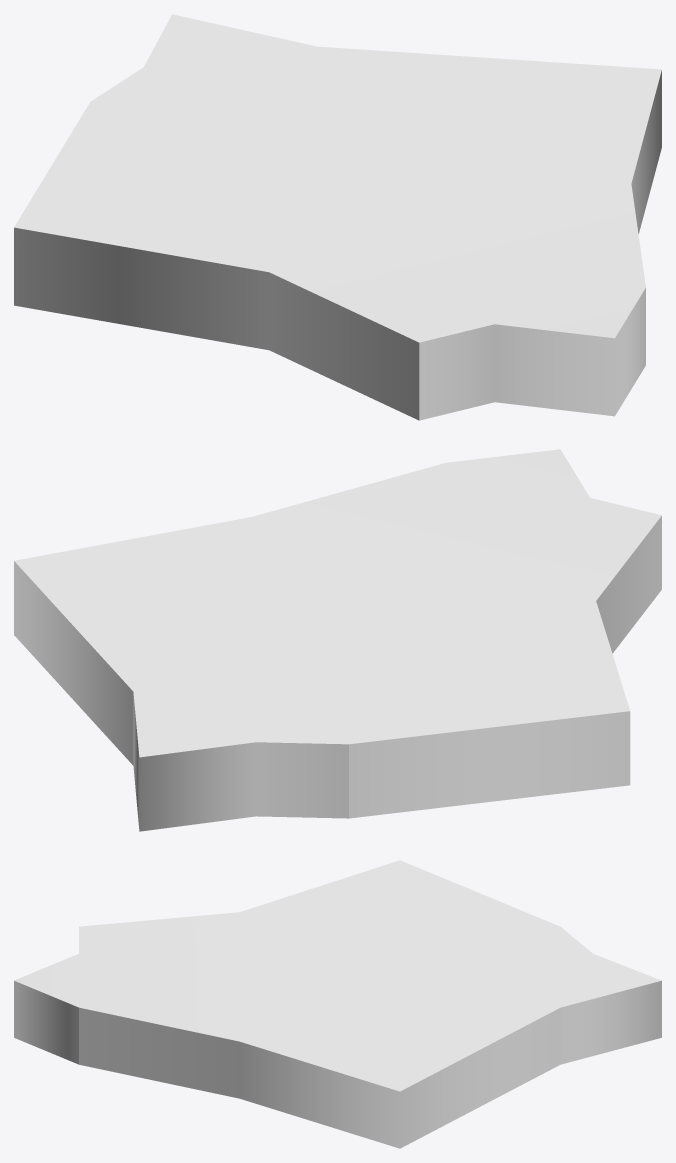
File: Rock 38.FBX
3 views of the same model, one above another, from view 1: azimuth 30°, elevation 25°; view 2: azimuth 150°, elevation 25°; view 3: azimuth 270°, elevation 25° (orthographic). The views are drawn at different scales.
Parts seen in each view (by area): view 1: Box001; view 2: Box001; view 3: Box001.
Part boxes in pixels (<box>): Box001: <box>14,14,661,420</box>; Box001: <box>14,449,661,831</box>; Box001: <box>14,860,661,1148</box>.
Size of the model in its own units: 42.26 by 4.86 by 50.01.
